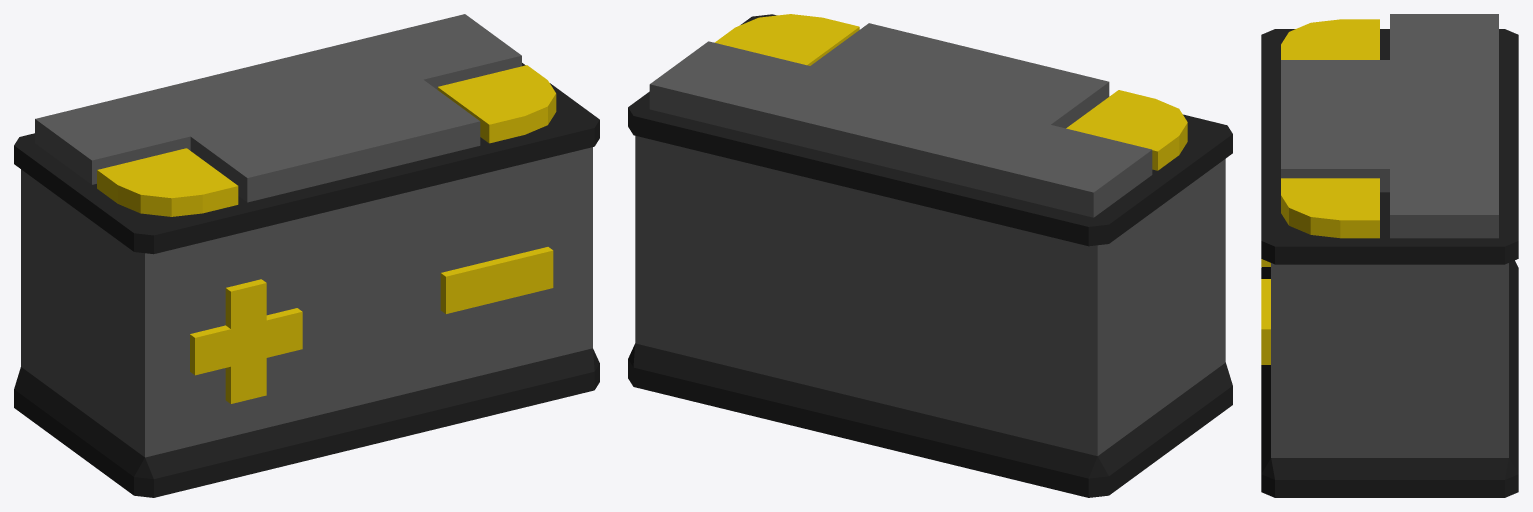
The model's file is battery.fbx.
The picture shows the model from 3 angles, left to right: view 1: azimuth 30°, elevation 25°; view 2: azimuth 150°, elevation 25°; view 3: azimuth 270°, elevation 25°; orthographic projection. The views are drawn at different scales.
Visible parts, largest first — view 1: Body, LidShapes, Base, Lid, Plus, PowerL, PowerR, Minus; view 2: Body, LidShapes, Base, Lid, PowerL, PowerR; view 3: Body, LidShapes, Lid, Base, PowerR, PowerL, Minus.
Part boxes in pixels (x1,y1,x2,y2): Body: (21, 147, 592, 457); LidShapes: (35, 14, 521, 202); Base: (14, 348, 599, 497); Lid: (14, 63, 599, 254); Plus: (190, 279, 302, 403); PowerL: (97, 148, 238, 216); PowerR: (437, 65, 556, 143); Minus: (440, 247, 553, 313); Body: (635, 136, 1225, 455); LidShapes: (649, 23, 1152, 217); Base: (628, 343, 1232, 497); Lid: (628, 14, 1232, 246); PowerL: (1066, 90, 1187, 170); PowerR: (715, 14, 859, 65); Body: (1271, 263, 1508, 457); LidShapes: (1281, 14, 1498, 238); Lid: (1261, 29, 1518, 264); Base: (1261, 260, 1518, 497); PowerR: (1281, 178, 1379, 238); PowerL: (1281, 19, 1379, 59); Minus: (1261, 279, 1270, 364).
Size of the model in its own units: 260 by 153 by 130.
